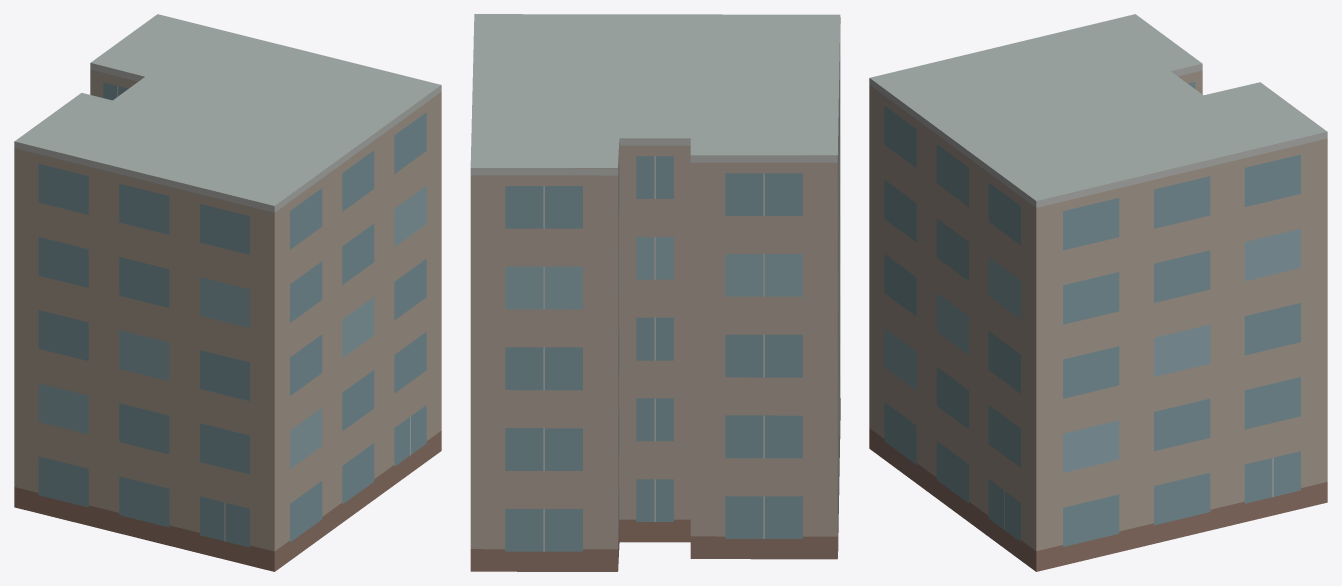
File: survey-upis-32695280.glb
3 views of the same model, side by side, from view 1: azimuth 30°, elevation 25°; view 2: azimuth 150°, elevation 25°; view 3: azimuth 270°, elevation 25° (orthographic). The views are drawn at different scales.
Parts seen in each view (by area): view 1: survey-upis-32695280.tmp; view 2: survey-upis-32695280.tmp; view 3: survey-upis-32695280.tmp.
Boxes of the visible parts, x1,y1,x2,y2 form: survey-upis-32695280.tmp: [14, 14, 441, 571]; survey-upis-32695280.tmp: [470, 14, 840, 571]; survey-upis-32695280.tmp: [869, 14, 1327, 571].
Size of the model in its own units: 14.4 by 13.3 by 14.9.
